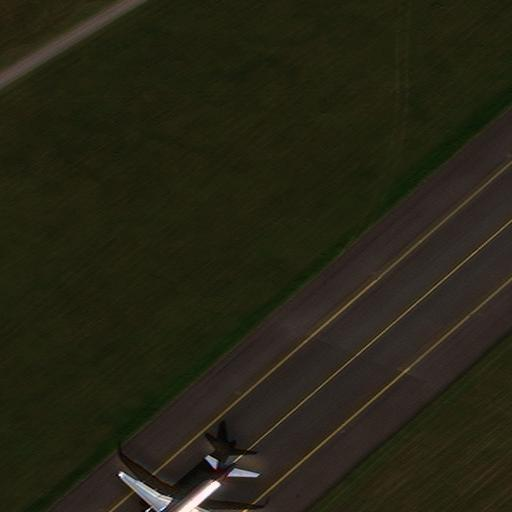Medium Civil Transport: (117, 462, 257, 511)
